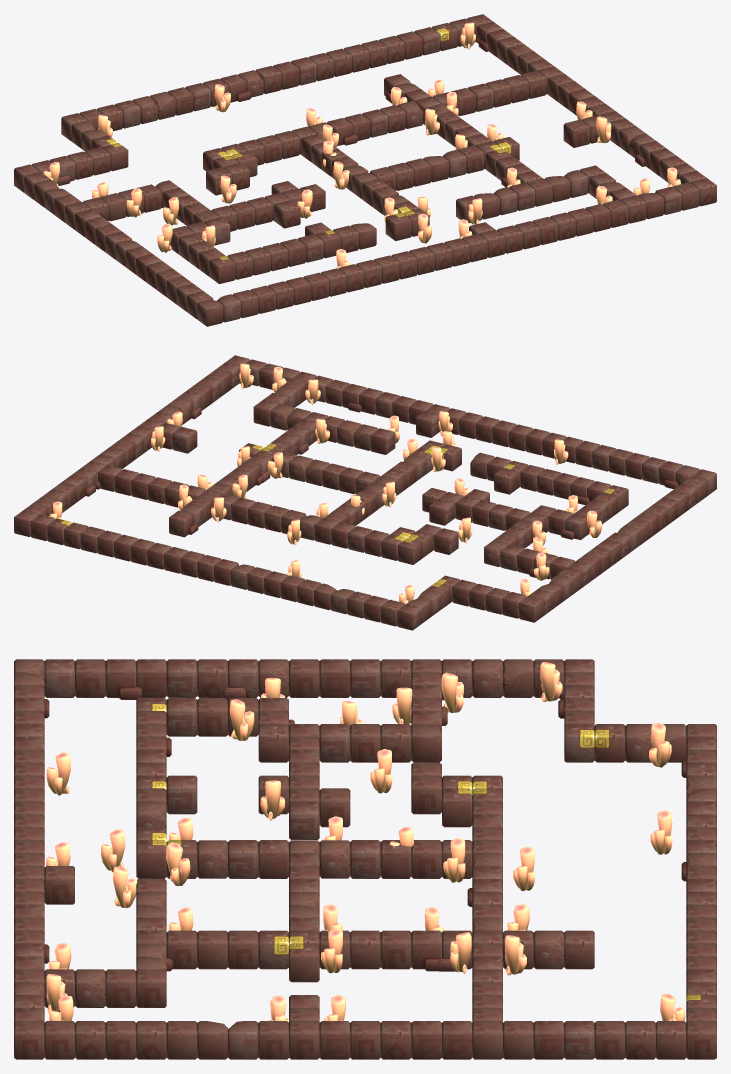
The model's file is Map_B_a.fbx.
3 views of the same model, one above another, from view 1: azimuth 30°, elevation 25°; view 2: azimuth 150°, elevation 25°; view 3: azimuth 270°, elevation 25° (orthographic). The views are drawn at different scales.
Visible parts, largest first — view 1: 平面.29314, 平面.29203, 平面.29368, 平面.29309, 平面.29169, 平面.29366, 平面.29247, 平面.29279, 平面.29325, 平面.29348, 平面.29356, 平面.29404 (+15 smaller); view 2: 平面.29351, 平面.29364, 平面.29342, 平面.29231, 平面.29314, 平面.29291, 平面.29193, 平面.29337, 平面.29352, 平面.29301, 平面.29282, 平面.29357 (+40 smaller); view 3: 平面.29359, 平面.29301, 平面.29412, 平面.29363, 平面.29166, 平面.29196, 平面.29214, 平面.29215, 平面.29216, 平面.29222, 平面.29250, 平面.29257 (+84 smaller).
Boxes of the visible parts, x1,y1,x2,y2 form: 平面.29314: [563, 119, 590, 147]; 平面.29203: [385, 212, 411, 241]; 平面.29368: [209, 255, 235, 283]; 平面.29309: [274, 200, 300, 228]; 平面.29169: [197, 300, 223, 326]; 平面.29366: [220, 74, 251, 102]; 平面.29247: [256, 135, 282, 163]; 平面.29279: [391, 251, 417, 279]; 平面.29325: [255, 66, 281, 94]; 平面.29348: [327, 118, 357, 145]; 平面.29356: [673, 182, 699, 210]; 平面.29404: [229, 201, 255, 229]; 平面.29351: [169, 510, 198, 537]; 平面.29364: [560, 513, 589, 539]; 平面.29342: [429, 499, 454, 525]; 平面.29231: [433, 528, 458, 554]; 平面.29314: [172, 427, 197, 453]; 平面.29291: [370, 428, 395, 454]; 平面.29193: [398, 538, 422, 564]; 平面.29337: [397, 603, 421, 630]; 平面.29352: [519, 596, 543, 622]; 平面.29301: [494, 468, 518, 494]; 平面.29282: [416, 411, 439, 437]; 平面.29357: [658, 461, 683, 489]; 平面.29359: [105, 659, 141, 699]; 平面.29301: [166, 775, 197, 814]; 平面.29412: [380, 930, 411, 969]; 平面.29363: [223, 659, 258, 699]; 平面.29166: [533, 930, 564, 969]; 平面.29196: [594, 724, 625, 762]; 平面.29214: [319, 1021, 350, 1059]; 平面.29215: [319, 659, 350, 697]; 平面.29216: [319, 724, 350, 762]; 平面.29222: [380, 1021, 411, 1059]; 平面.29250: [533, 1021, 564, 1059]; 平面.29257: [594, 1021, 625, 1059].
Bounding box in the file's own units: 5800 × 305 × 4600.
